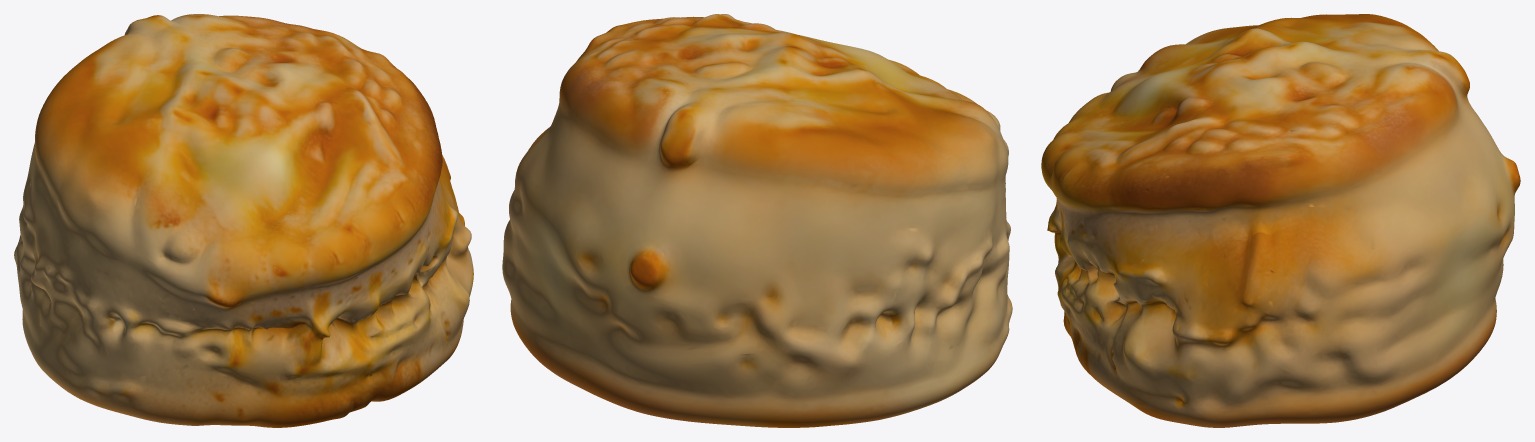
File: scone.glb
3 renders of one model, left to right at view 1: azimuth 30°, elevation 25°; view 2: azimuth 150°, elevation 25°; view 3: azimuth 270°, elevation 25°, orthographic. The views are drawn at different scales.
Visible parts, largest first — view 1: Scone; view 2: Scone; view 3: Scone.
Boxes of the visible parts, x1,y1,x2,y2 form: Scone: (14, 14, 473, 427); Scone: (502, 14, 1012, 427); Scone: (1041, 14, 1520, 427).
Bounding box in the file's own units: 0.05 × 0.0343 × 0.0508.
1 material, 1 textured.
